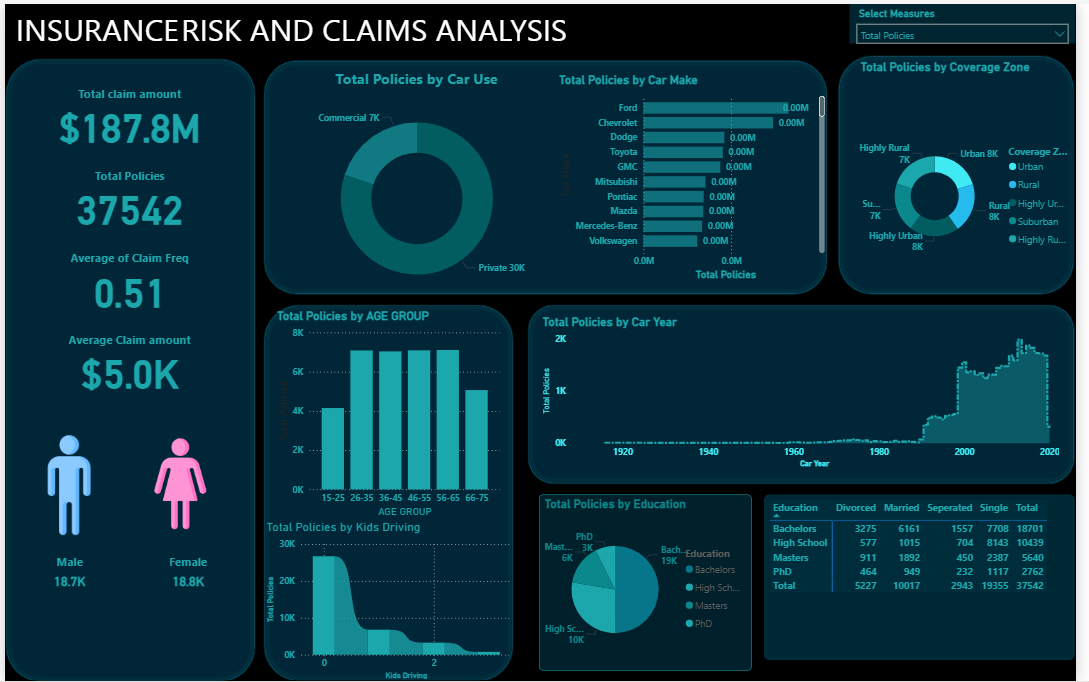

Layout of this report page (visuals, bound fields, positions):
{"tool":"powerbi","page":{"name":"Page 1","canvas":[1500,950],"ordinal":0},"visuals":[{"type":"textbox","box":[10.9,0,784.6,74.3],"z":0},{"type":"shape","box":[0,75.1,352,875.6],"z":1000},{"type":"cardVisual","fields":{"Data":["insurance_data_car.Total claim amount","insurance_data_car.Total Policies","Avg(insurance_data_car.Claim Freq)","insurance_data_car.Average Claim amount"]},"box":[37.6,97.4,274.6,451.8],"z":2000},{"type":"cardVisual","fields":{"Data":["insurance_data_car.Male count","insurance_data_car.Female count"]},"box":[15,753.3,319.8,83.7],"z":3000},{"type":"image","box":[15,594.5,150.2,158.8],"z":4000},{"type":"image","box":[176,549.4,137.3,246.8],"z":5000},{"type":"slicer","fields":{"Values":["Select Measures.Select Measures"]},"box":[1182.6,0,316.7,55.4],"z":6000},{"type":"shape","box":[360.6,77.3,791.9,330.5],"z":7000},{"type":"donutChart","fields":{"Y":["insurance_data_car.Total Policies"],"Category":["insurance_data_car.Car Use"]},"box":[379.9,90.1,392.7,336.9],"z":8000},{"type":"clusteredBarChart","fields":{"Y":["insurance_data_car.Total Policies"],"Category":["insurance_data_car.Car Make"]},"box":[770.5,96.6,382,294],"z":9000},{"type":"shape","box":[1167.5,70.8,332.6,336.9],"z":10000},{"type":"donutChart","fields":{"Y":["insurance_data_car.Total Policies"],"Category":["insurance_data_car.Coverage Zone"]},"box":[1193.2,77.3,307,363],"z":11000},{"type":"shape","box":[360.6,420.6,352,530.1],"z":12000},{"type":"clusteredColumnChart","fields":{"Y":["insurance_data_car.Total Policies"],"Category":["insurance_data_car.AGE GROUP"]},"box":[375.6,427.1,321.9,296.2],"z":13000},{"type":"ribbonChart","fields":{"Y":["insurance_data_car.Total Policies"],"Category":["insurance_data_car.Kids Driving"]},"box":[360.6,723.2,352,227.5],"z":14000},{"type":"shape","box":[731.8,420.6,768.3,253.2],"z":15000},{"type":"areaChart","fields":{"Y":["insurance_data_car.Total Policies"],"Category":["insurance_data_car.Car Year"]},"box":[749,435.7,734,218.9],"z":16000},{"type":"pieChart","fields":{"Y":["insurance_data_car.Total Policies"],"Category":["insurance_data_car.Education"]},"box":[749,686.8,298.3,246.8],"z":17000},{"type":"pivotTable","fields":{"Values":["insurance_data_car.Total Policies"],"Rows":["insurance_data_car.Education"],"Columns":["insurance_data_car.Marital Status"]},"box":[1064.5,686.8,435.7,231.8],"z":18000}]}

Visuals, with their boxes in screenshot pixels (x1, y1, x2, y2), scaled from the page's 1500x950 canvas onto the 1089x682 screenshot:
textbox: (8,0,578,53)
shape: (0,54,256,681)
cardVisual - insurance_data_car.Total claim amount x insurance_data_car.Total Policies: (27,70,227,394)
cardVisual - insurance_data_car.Male count x insurance_data_car.Female count: (11,541,243,601)
image: (11,427,120,541)
image: (128,394,227,572)
slicer - Select Measures.Select Measures: (859,0,1088,40)
shape: (262,55,837,293)
donutChart - insurance_data_car.Total Policies x insurance_data_car.Car Use: (276,65,561,307)
clusteredBarChart - insurance_data_car.Total Policies x insurance_data_car.Car Make: (559,69,837,280)
shape: (848,51,1088,293)
donutChart - insurance_data_car.Total Policies x insurance_data_car.Coverage Zone: (866,55,1088,316)
shape: (262,302,517,681)
clusteredColumnChart - insurance_data_car.Total Policies x insurance_data_car.AGE GROUP: (273,307,506,519)
ribbonChart - insurance_data_car.Total Policies x insurance_data_car.Kids Driving: (262,519,517,681)
shape: (531,302,1088,484)
areaChart - insurance_data_car.Total Policies x insurance_data_car.Car Year: (544,313,1077,470)
pieChart - insurance_data_car.Total Policies x insurance_data_car.Education: (544,493,760,670)
pivotTable - insurance_data_car.Total Policies x insurance_data_car.Education: (773,493,1088,659)
